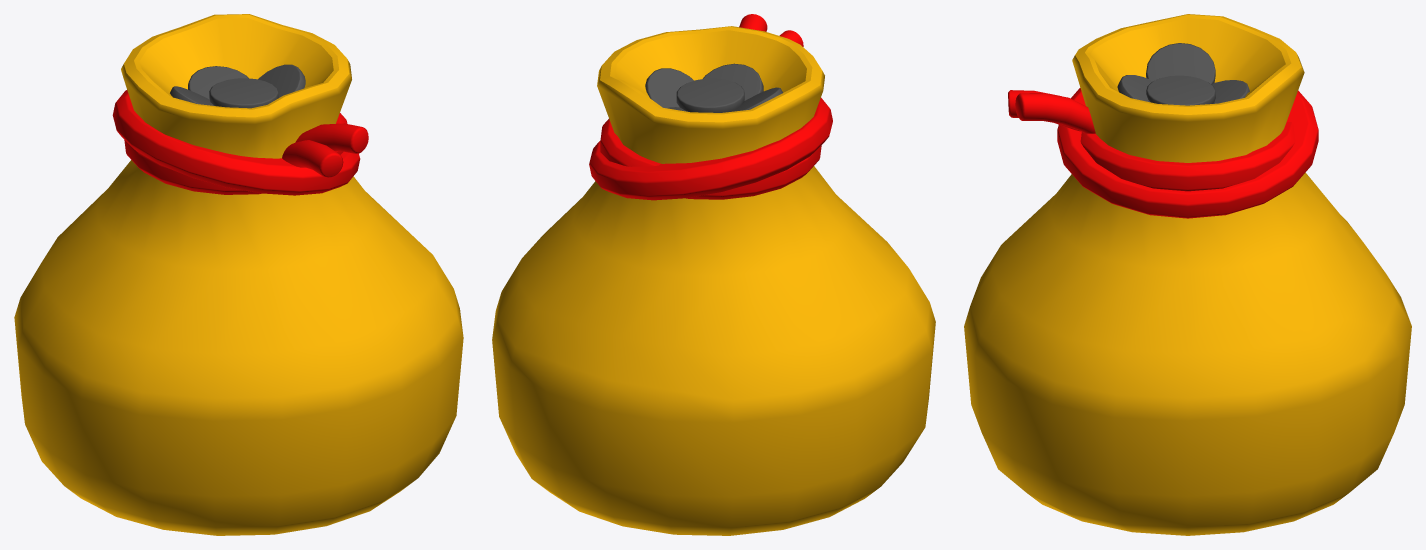
Rendered from SackTest.fbx.
3 renders of one model, left to right at view 1: azimuth 30°, elevation 25°; view 2: azimuth 150°, elevation 25°; view 3: azimuth 270°, elevation 25°, orthographic.
Parts seen in each view (by area): view 1: pCylinder4, pCylinder6, pCylinder13, pCylinder5, pCylinder7, pCylinder8, pCylinder9, pCylinder11; view 2: pCylinder4, pCylinder6, pCylinder5, pCylinder13, pCylinder11, pCylinder10; view 3: pCylinder4, pCylinder6, pCylinder5, pCylinder8, pCylinder12, pCylinder13, pCylinder9, pCylinder10.
Boxes of the visible parts, x1=… form: pCylinder4: x1=14, y1=14, x2=463, y2=535; pCylinder6: x1=112, y1=90, x2=360, y2=195; pCylinder13: x1=209, y1=78, x2=278, y2=108; pCylinder5: x1=124, y1=113, x2=347, y2=194; pCylinder7: x1=282, y1=140, x2=343, y2=177; pCylinder8: x1=295, y1=123, x2=368, y2=153; pCylinder9: x1=188, y1=66, x2=248, y2=99; pCylinder11: x1=258, y1=64, x2=305, y2=97; pCylinder4: x1=492, y1=26, x2=935, y2=535; pCylinder6: x1=589, y1=97, x2=832, y2=200; pCylinder5: x1=600, y1=119, x2=821, y2=199; pCylinder13: x1=676, y1=78, x2=744, y2=112; pCylinder11: x1=645, y1=68, x2=693, y2=108; pCylinder10: x1=703, y1=63, x2=763, y2=100; pCylinder4: x1=964, y1=14, x2=1411, y2=535; pCylinder6: x1=1057, y1=88, x2=1318, y2=218; pCylinder5: x1=1080, y1=122, x2=1295, y2=191; pCylinder8: x1=1015, y1=93, x2=1095, y2=133; pCylinder12: x1=1146, y1=43, x2=1215, y2=84; pCylinder13: x1=1146, y1=75, x2=1215, y2=105; pCylinder9: x1=1212, y1=80, x2=1249, y2=103; pCylinder10: x1=1117, y1=75, x2=1152, y2=102.
Bounding box in the file's own units: 55.18 × 56.24 × 55.18.
